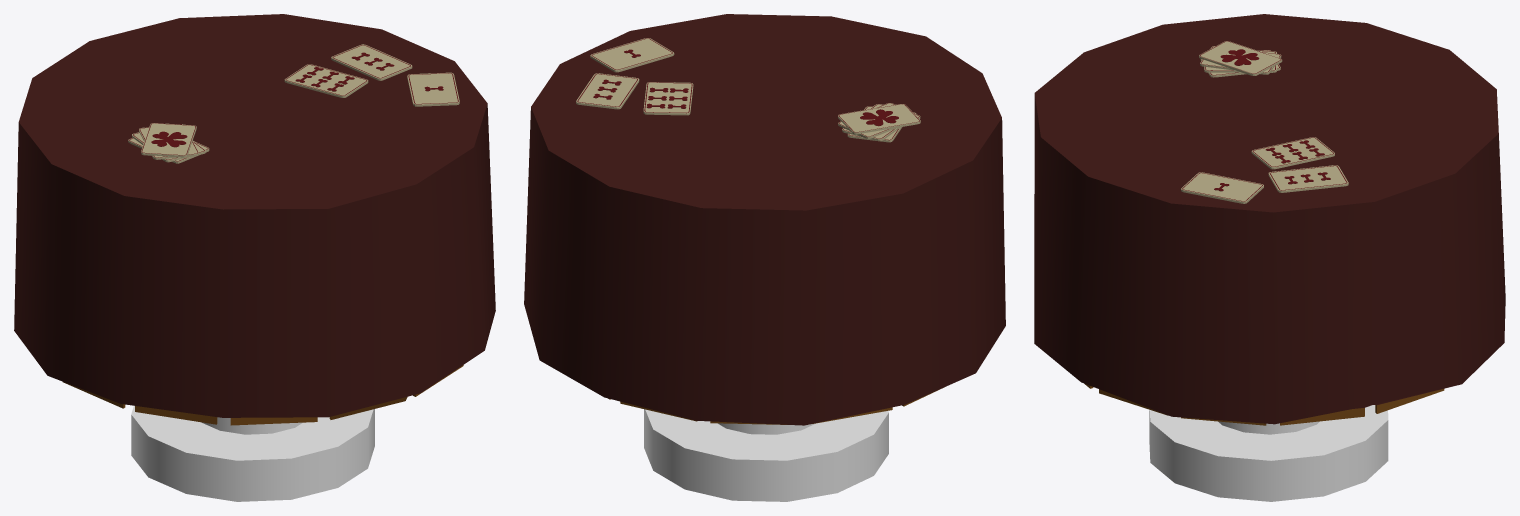
File: Table 1.fbx
3 renders of one model, left to right at view 1: azimuth 30°, elevation 25°; view 2: azimuth 150°, elevation 25°; view 3: azimuth 270°, elevation 25°, orthographic.
Parts seen in each view (by area): view 1: Tavolo tovaglia; view 2: Tavolo tovaglia; view 3: Tavolo tovaglia.
Boxes of the visible parts, left/top/right/bottom form: Tavolo tovaglia: left=14, top=14, right=495, bottom=501; Tavolo tovaglia: left=524, top=14, right=1005, bottom=501; Tavolo tovaglia: left=1034, top=14, right=1505, bottom=501.
Bounding box in the file's own units: 217 × 170 × 211.
